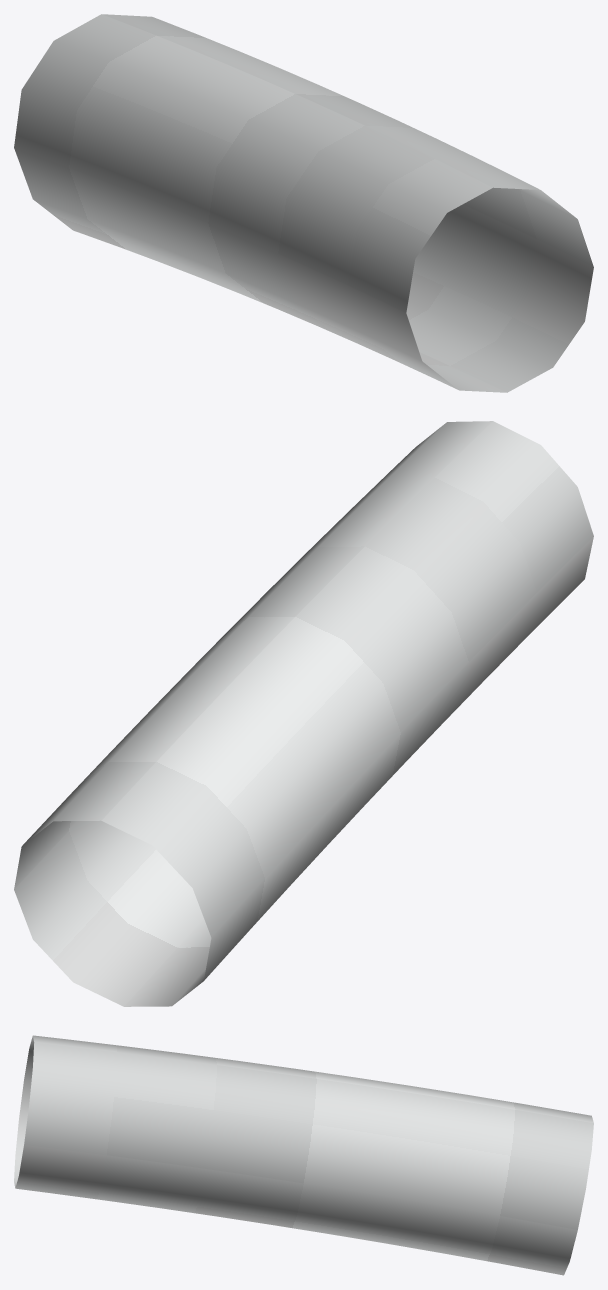
Rendered from luminairearm_caltrans15ftdouble_c13.obj.
The picture shows the model from 3 angles, top to bottom: view 1: azimuth 30°, elevation 25°; view 2: azimuth 150°, elevation 25°; view 3: azimuth 270°, elevation 25°; orthographic projection. The views are drawn at different scales.
Parts seen in each view (by area): view 1: luminairearm_caltrans15ftdouble_c13; view 2: luminairearm_caltrans15ftdouble_c13; view 3: luminairearm_caltrans15ftdouble_c13.
Boxes of the visible parts, x1,y1,x2,y2 form: luminairearm_caltrans15ftdouble_c13: (14, 14, 593, 392); luminairearm_caltrans15ftdouble_c13: (14, 421, 593, 1006); luminairearm_caltrans15ftdouble_c13: (14, 1035, 593, 1275).
Size of the model in its own units: 0.2042 by 0.3118 by 0.7267.
